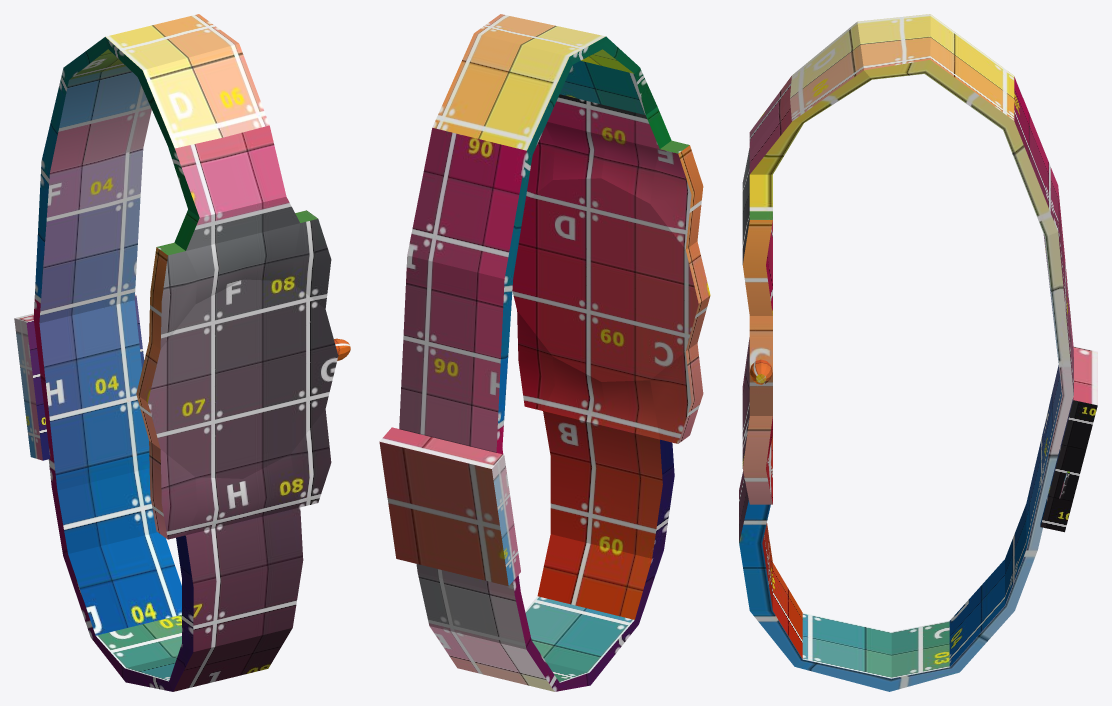
The model's file is Watch_low.fbx.
3 views of the same model, side by side, from view 1: azimuth 30°, elevation 25°; view 2: azimuth 150°, elevation 25°; view 3: azimuth 270°, elevation 25° (orthographic). The views are drawn at different scales.
Parts seen in each view (by area): view 1: Watch_low; view 2: Watch_low; view 3: Watch_low.
Part boxes in pixels (x1,y1,x2,y2): Watch_low: [14, 14, 350, 691]; Watch_low: [379, 14, 710, 691]; Watch_low: [739, 14, 1097, 691].
Bounding box in the file's own units: 109 × 319 × 164.
1 material, 1 textured.
